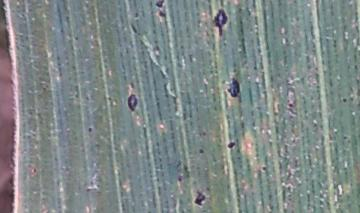tarspot: (211, 6, 232, 38), (226, 76, 242, 104), (192, 186, 210, 210), (224, 139, 239, 152), (155, 8, 167, 24), (174, 172, 185, 188), (258, 164, 271, 176), (84, 124, 95, 136), (338, 94, 349, 105), (197, 146, 207, 157), (286, 100, 296, 110), (153, 1, 167, 8), (341, 134, 352, 142)
